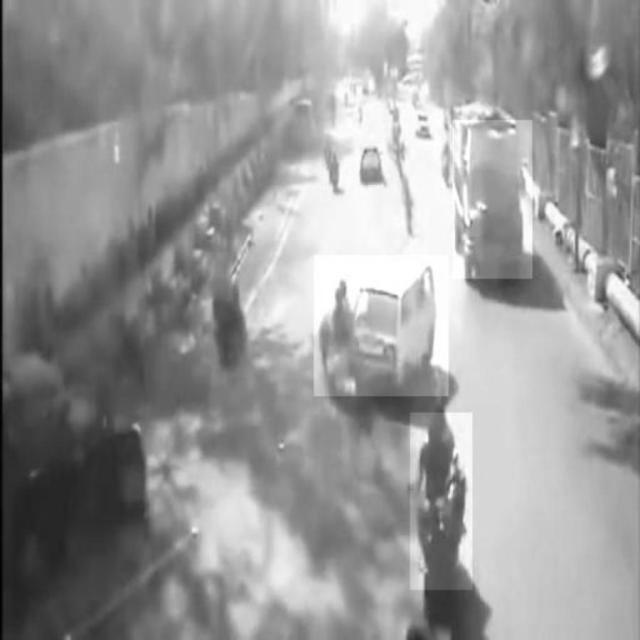accident: (315, 255, 449, 396)
vehicle: (453, 120, 533, 278), (411, 413, 473, 590)
